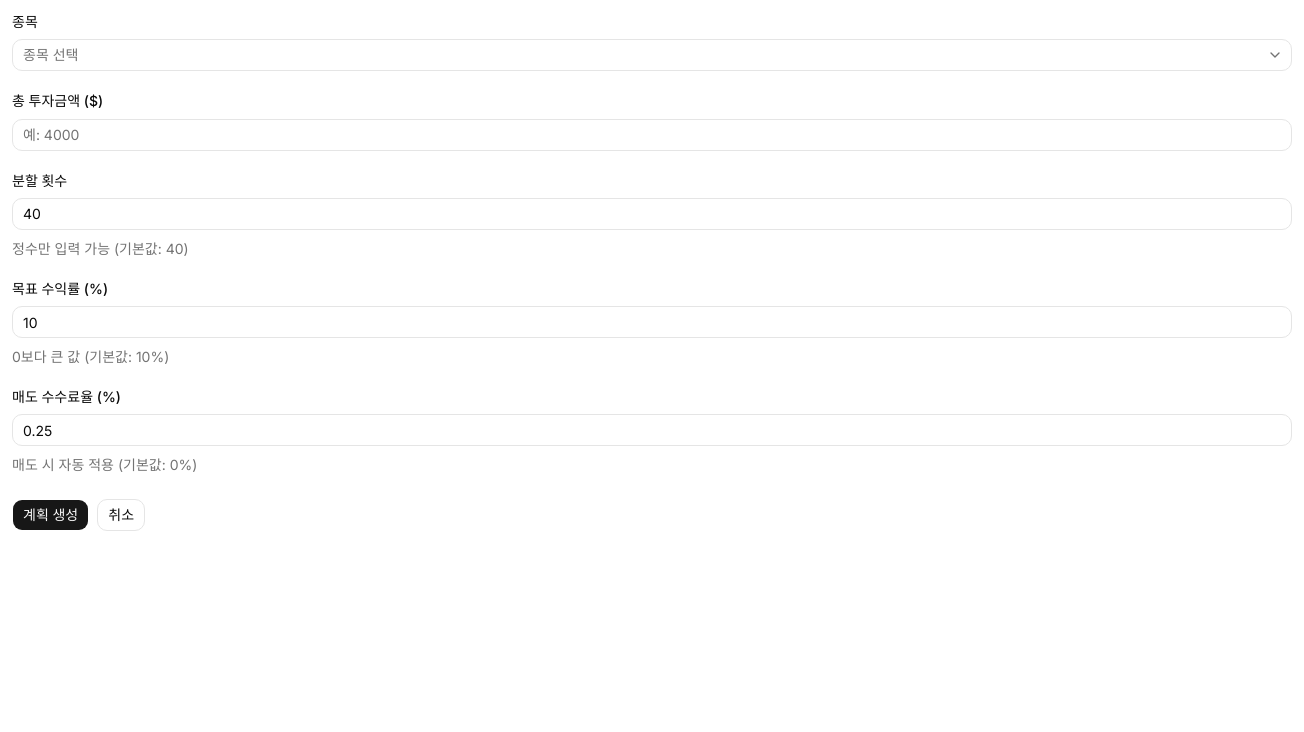
Test case: PlanNewForm › daily amount recalculates when splits changes
Type "2000" into the number field labelled "총 투자금액 ($)" at (652, 134), box [12,118,1292,150]
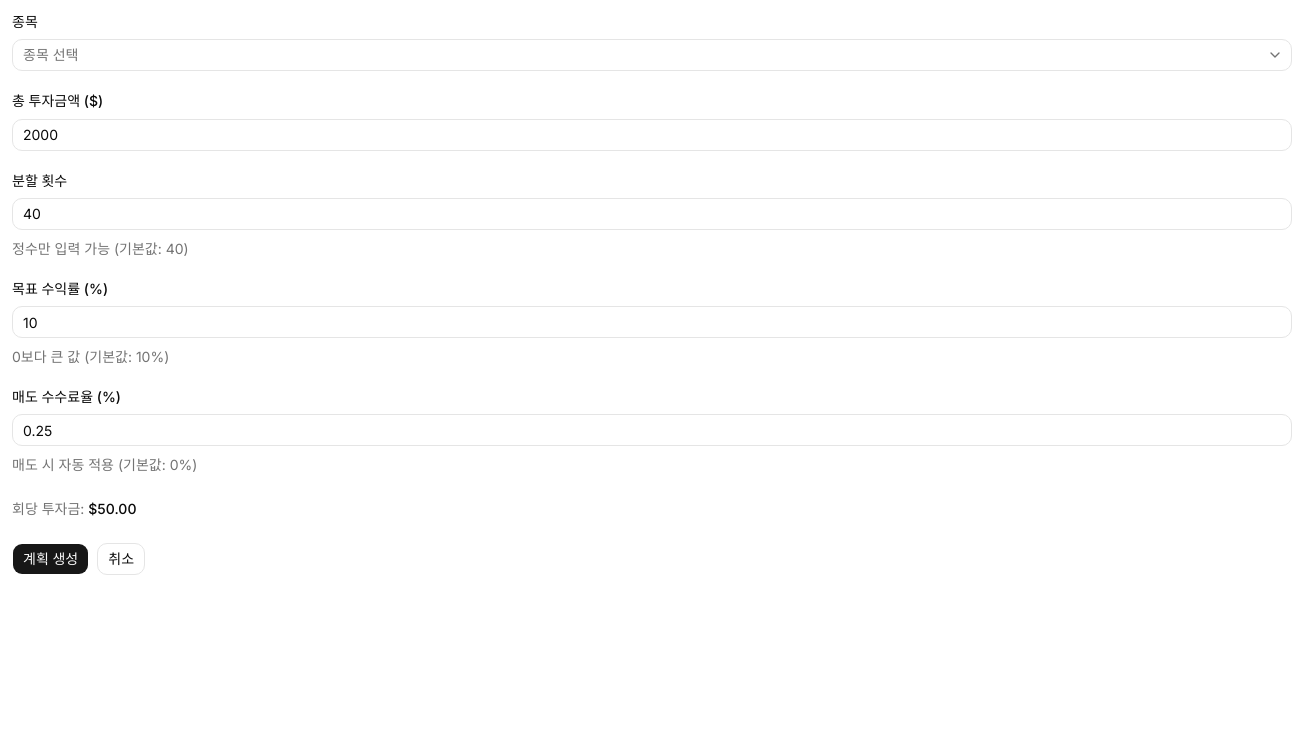
Replace the text in the number field labelled "분할 횟수" with "20" at (652, 214), box [12,198,1292,230]
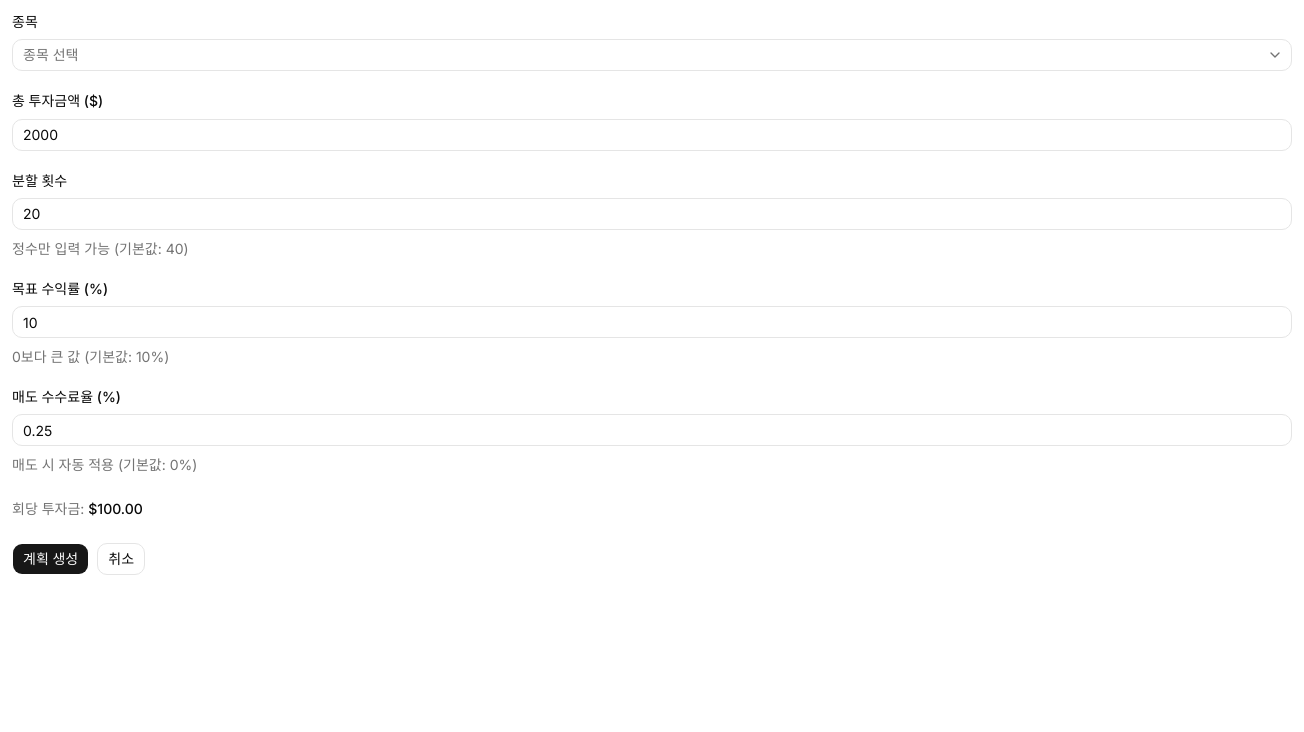
Expected: the text "$100.00" is shown, [88,500,143,517]
